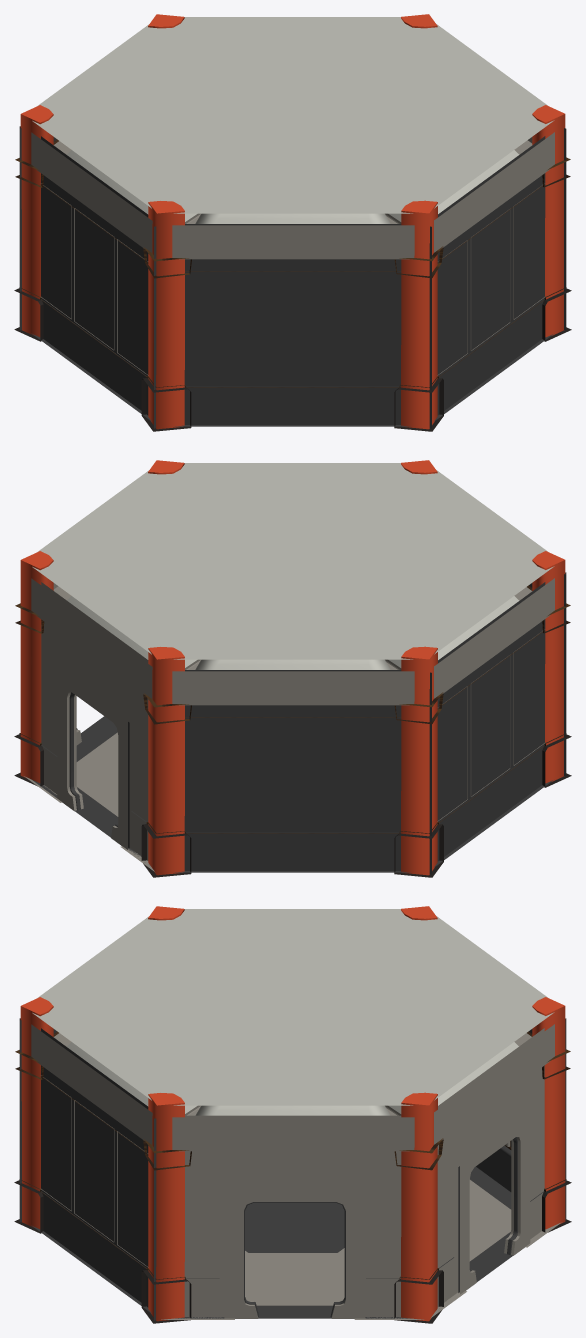
Rendered from Room01.fbx.
The picture shows the model from 3 angles, top to bottom: view 1: azimuth 30°, elevation 25°; view 2: azimuth 150°, elevation 25°; view 3: azimuth 270°, elevation 25°; orthographic projection.
Visible parts, largest first — view 1: RoomBase01, Wall01_2, Ceiling01, Wall01_3, Wall01_1; view 2: RoomBase01, Wall01_4, Ceiling01, Wall01_1, WallDoor01_2; view 3: RoomBase01, WallDoor01_1, Ceiling01, Wall01_3, WallDoor01_2, Wall01_4.
Part boxes in pixels (x1,y1,x2,y2): RoomBase01: [14, 14, 571, 431]; Wall01_2: [184, 224, 401, 424]; Ceiling01: [31, 132, 554, 259]; Wall01_3: [429, 128, 566, 428]; Wall01_1: [19, 128, 156, 428]; RoomBase01: [14, 460, 571, 877]; Wall01_4: [184, 670, 401, 870]; Ceiling01: [31, 578, 554, 705]; Wall01_1: [429, 574, 566, 874]; WallDoor01_2: [24, 582, 154, 871]; RoomBase01: [14, 906, 571, 1323]; WallDoor01_1: [161, 1115, 423, 1319]; Ceiling01: [31, 1024, 554, 1151]; Wall01_3: [19, 1020, 156, 1320]; WallDoor01_2: [430, 1028, 561, 1318]; Wall01_4: [476, 1018, 566, 1220].
Bounding box in the file's own units: 90.72 × 44.96 × 105.
